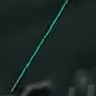hacks_2: (11, 1, 67, 92)
